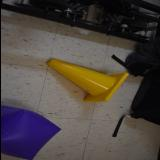cone: (45, 58, 128, 102)
cube: (0, 105, 61, 160)
